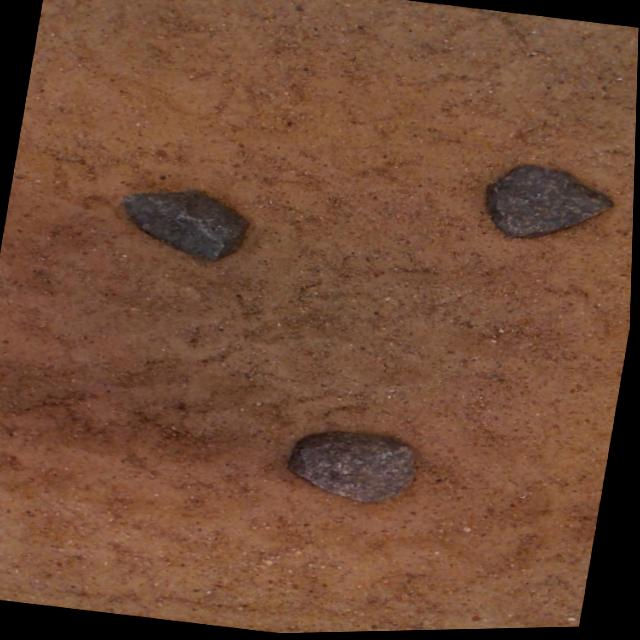rock: (488, 168, 614, 241), (291, 434, 417, 505), (124, 191, 247, 261)
